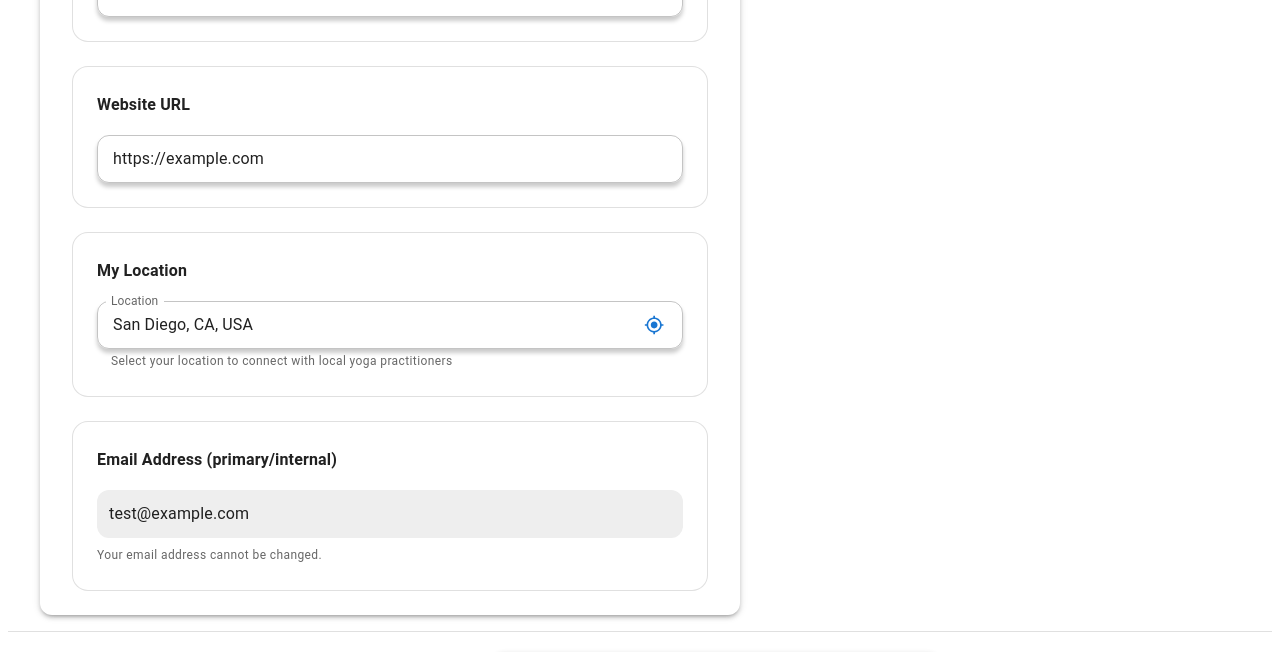
EditUserDetails - LocationPicker Integration › Current Location Functionality › shows loading state during geolocation request
(page scrolled)
Step 1. Click the button titled "Use current location" → point(654, 325), box [639,308,669,342]
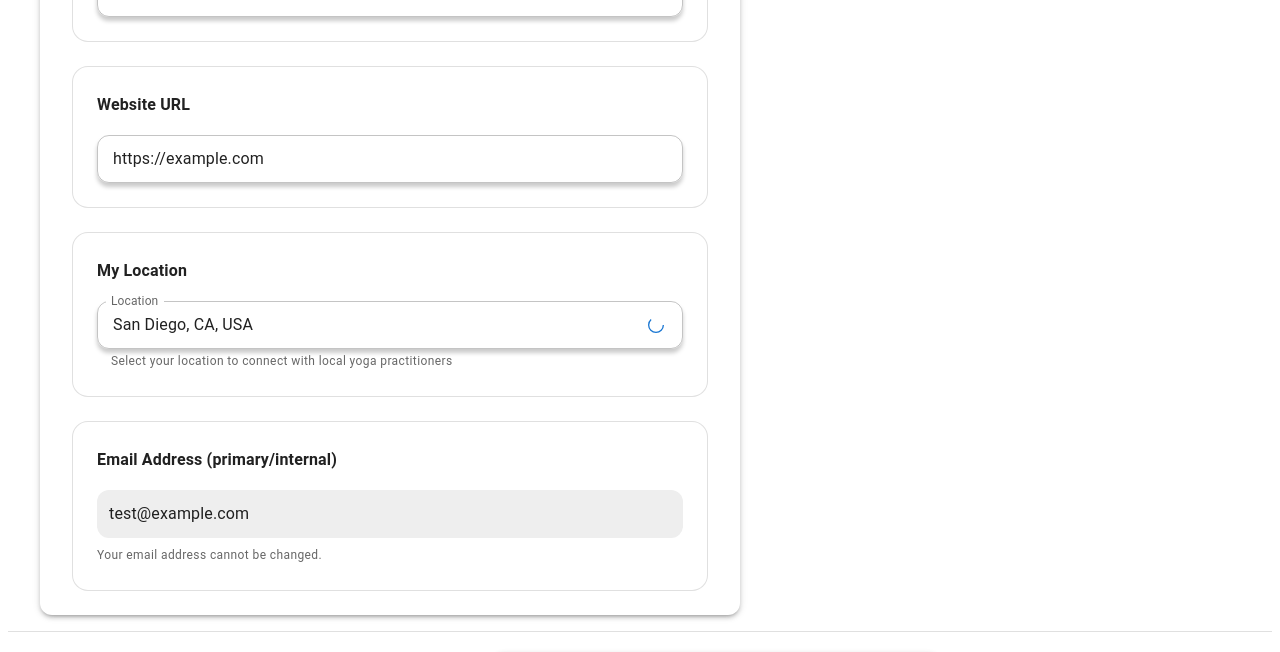
Check: the progress indicator is shown, box [648,317,664,333]
